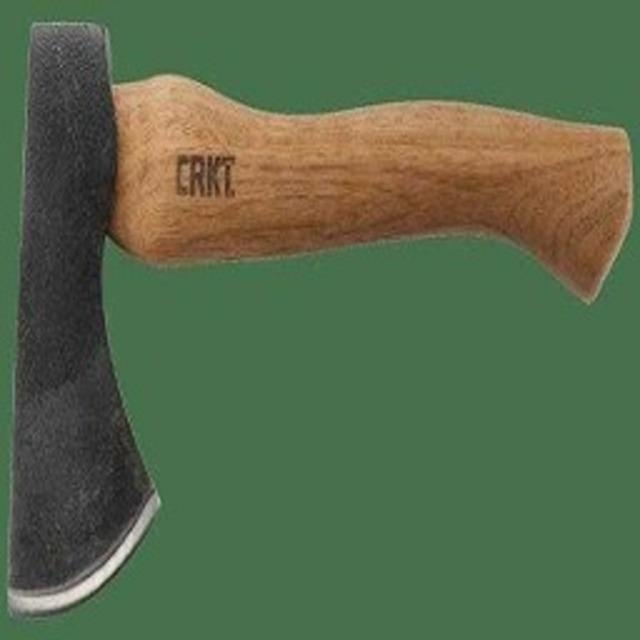ax: (4, 12, 640, 613)
